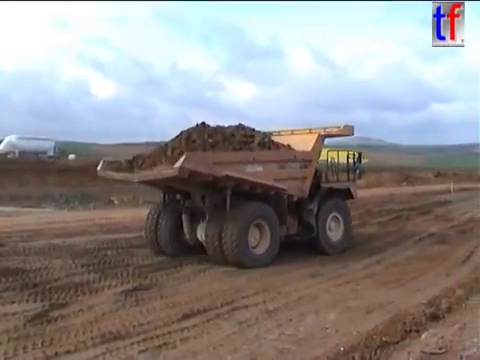truck: (94, 121, 367, 271), (1, 131, 79, 164)
